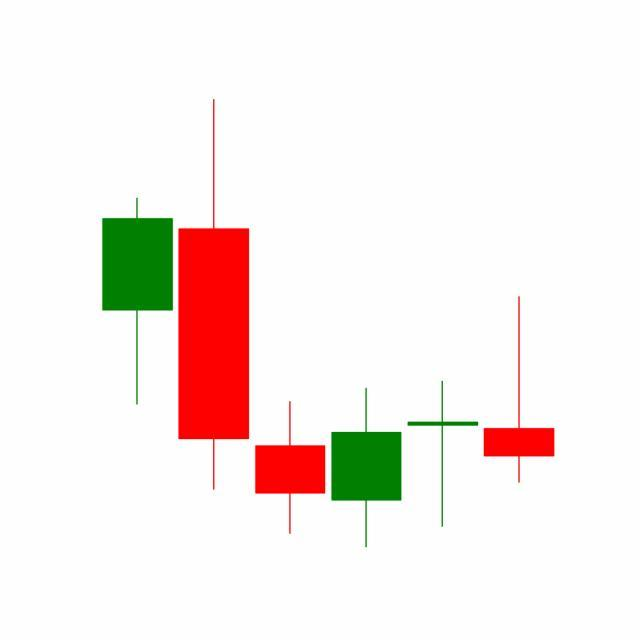Three Outside Up-Down: (252, 379, 482, 549)
